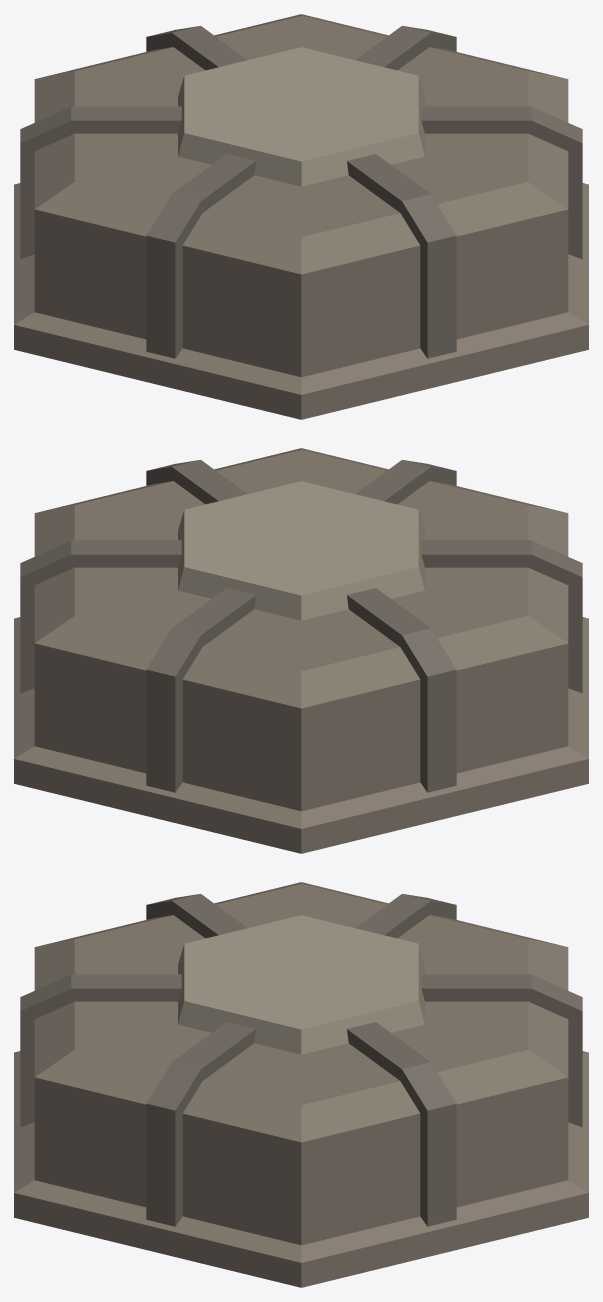
File: mine2_1.fbx
The picture shows the model from 3 angles, top to bottom: view 1: azimuth 30°, elevation 25°; view 2: azimuth 150°, elevation 25°; view 3: azimuth 270°, elevation 25°; orthographic projection.
Parts seen in each view (by area): view 1: SM_Prop_Mine_02; view 2: SM_Prop_Mine_02; view 3: SM_Prop_Mine_02.
Part boxes in pixels (x1,y1,x2,y2): SM_Prop_Mine_02: (14, 14, 588, 419); SM_Prop_Mine_02: (14, 448, 588, 853); SM_Prop_Mine_02: (14, 882, 588, 1287).
Bounding box in the file's own units: 47.85 × 13.94 × 41.44.
1 material, 1 textured.
